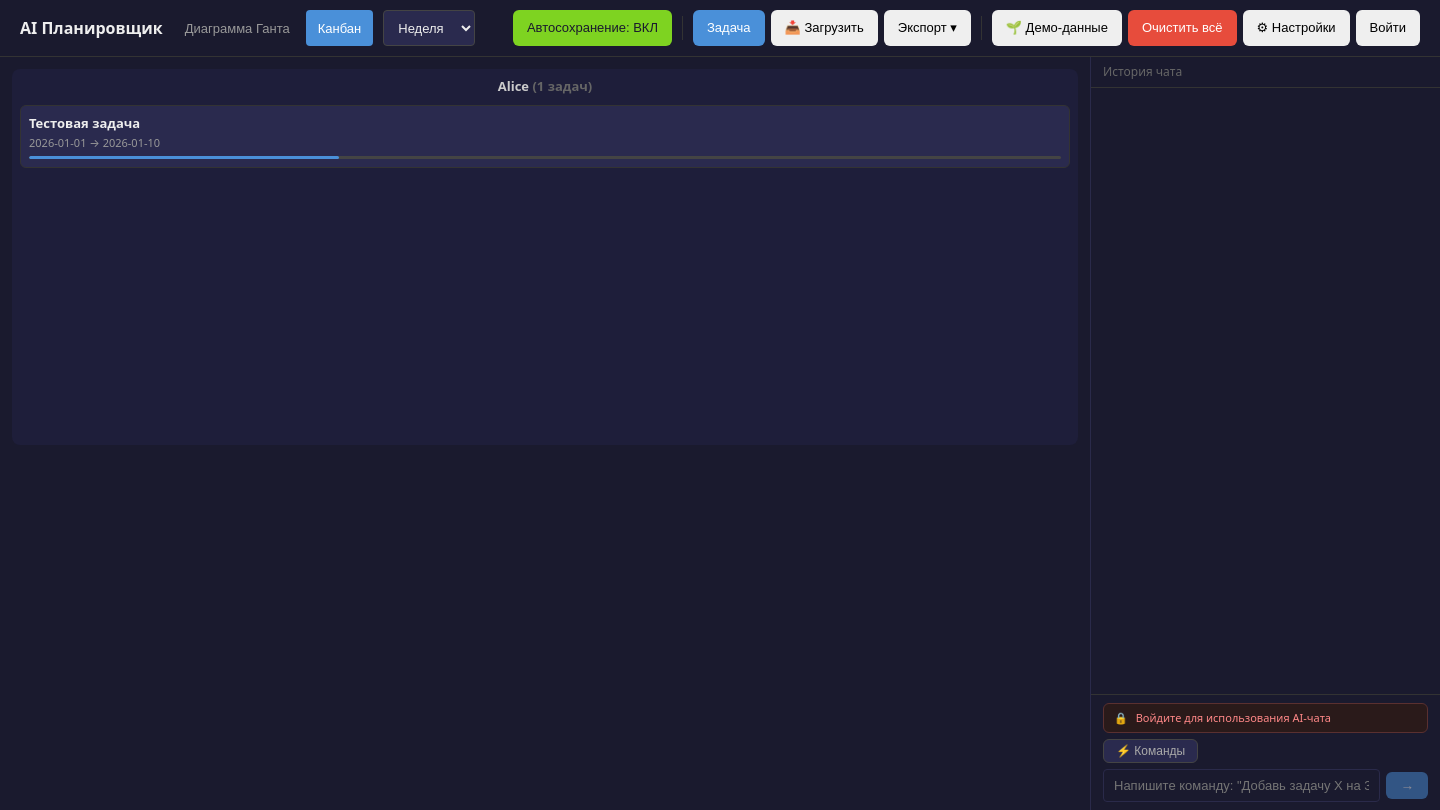
test_task_modal_flow › opens modal, edits task, saves
Click the text "Тестовая задача".
click(85, 122)  # box [29, 114, 140, 132]
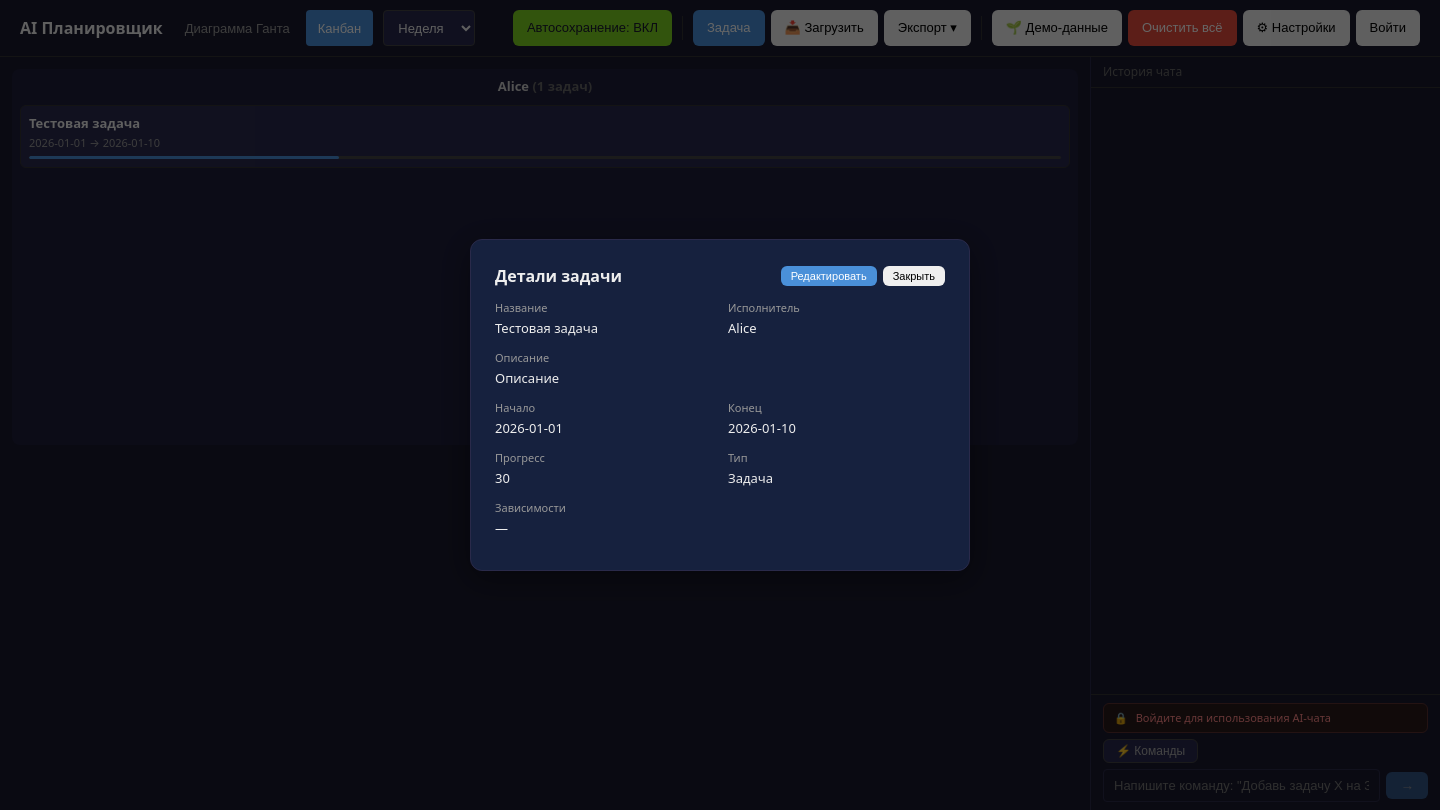
Expected: the heading "Детали задачи" is shown, [495, 264, 622, 288]
Expected: the text "30" is shown, [495, 468, 510, 486]
Click the button "Редактировать".
click(829, 276)  # box [781, 266, 877, 286]
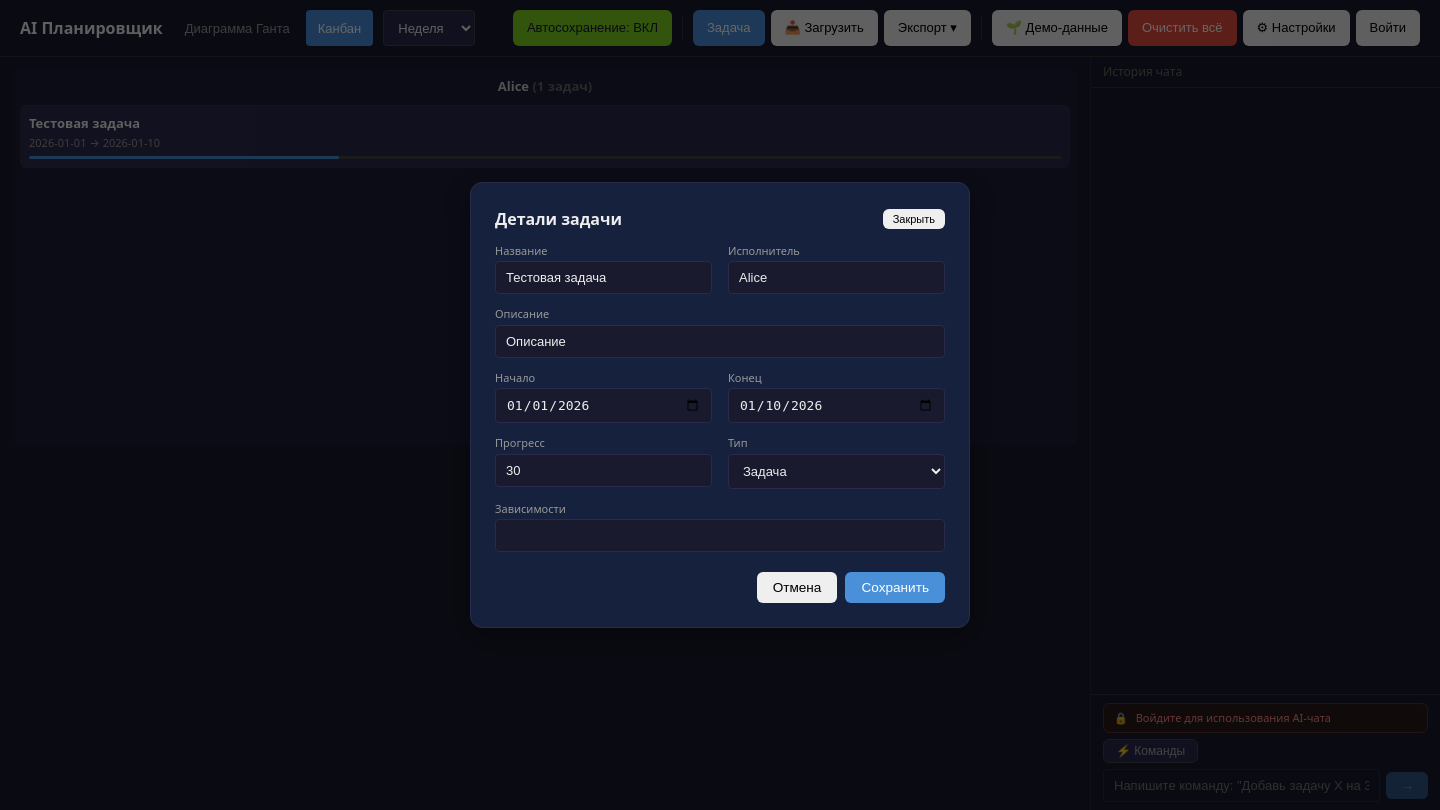
Replace the text in the field showing "Тестовая задача" below "Название" with "Обновлённая задача" at [604, 278], box [495, 261, 712, 294]
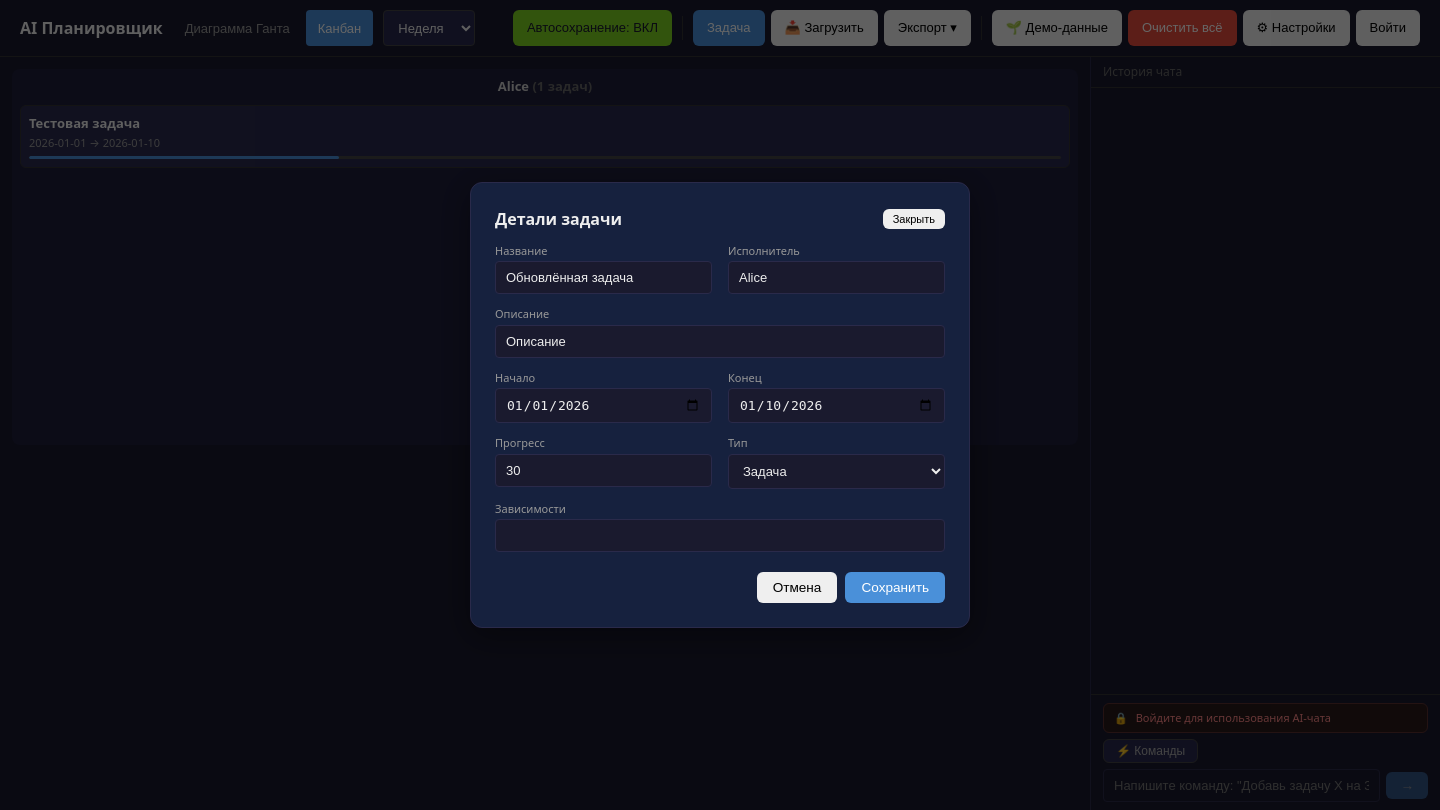
Click the button "Сохранить".
click(895, 588)  # box [845, 572, 945, 603]
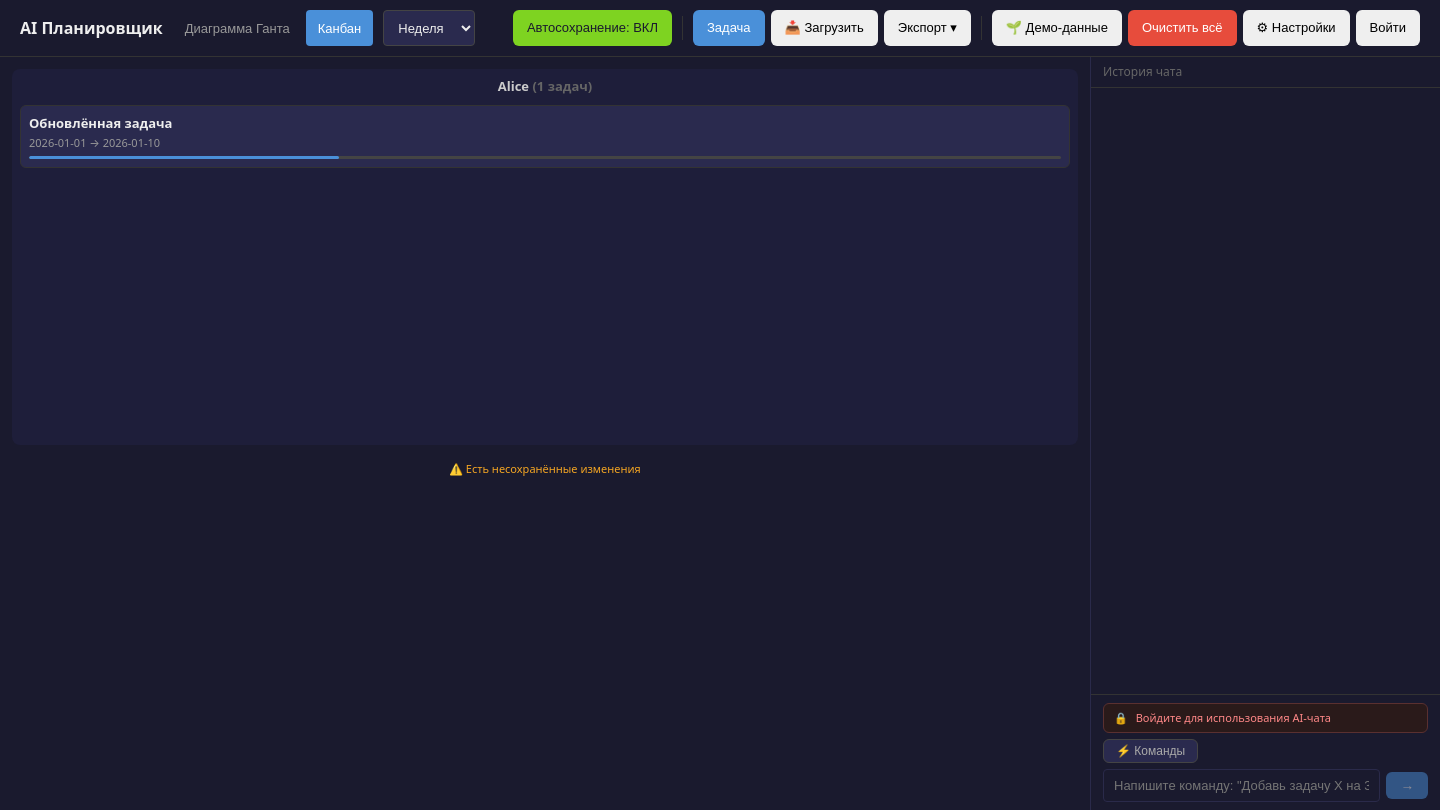
Expected: the text "Тестовая задача" reads "Обновлённая задача", [29, 114, 172, 132]
